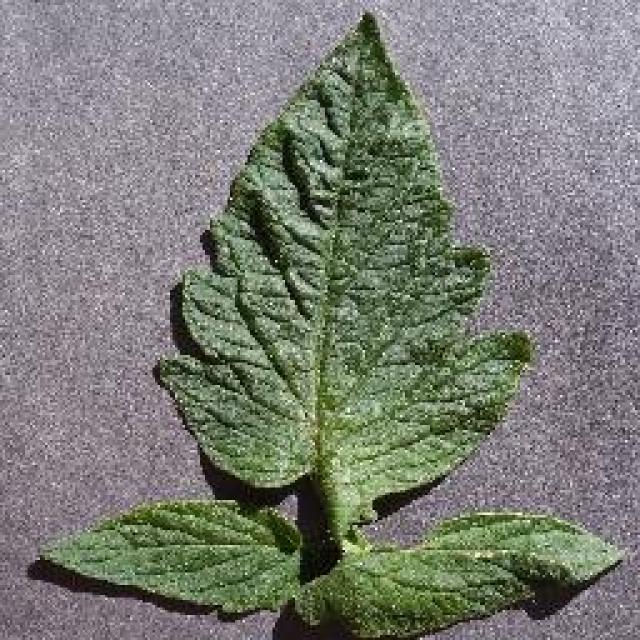Tomato_Healthy: (58, 21, 594, 628)
